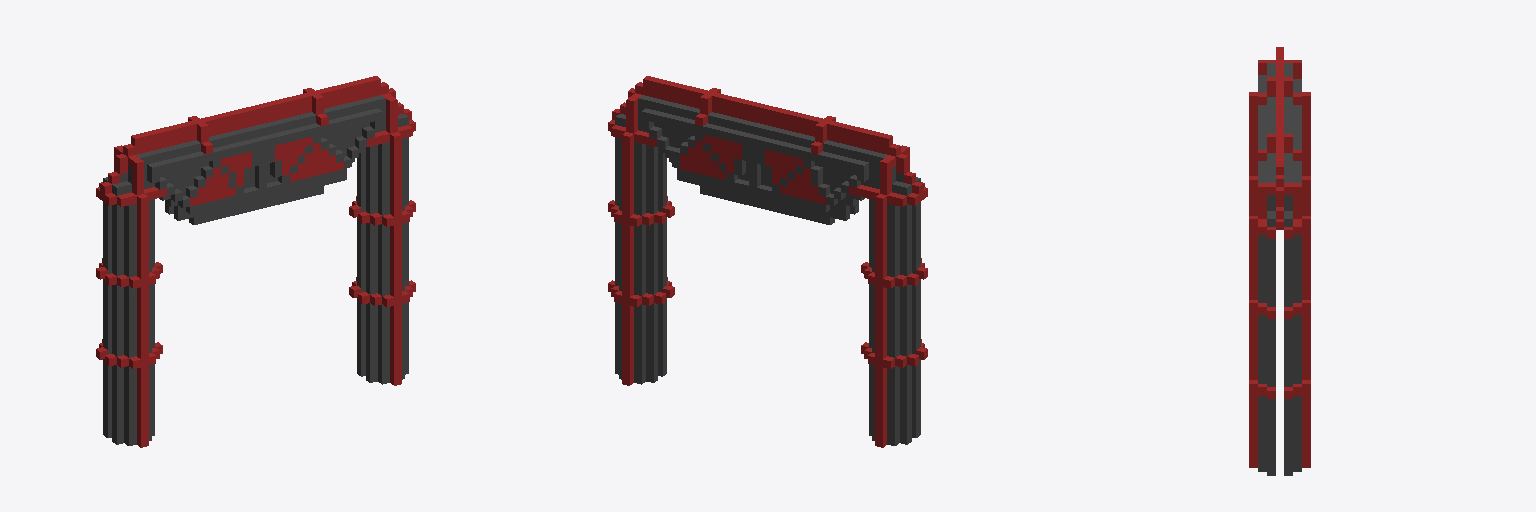
3 views of the same model, side by side, from view 1: azimuth 30°, elevation 25°; view 2: azimuth 150°, elevation 25°; view 3: azimuth 270°, elevation 25° (orthographic).
Parts seen in each view (by area): view 1: object 1; view 2: object 1; view 3: object 1.
Boxes of the visible parts, x1=… form: object 1: x1=96, y1=76, x2=415, y2=447; object 1: x1=608, y1=76, x2=927, y2=447; object 1: x1=1249, y1=47, x2=1310, y2=475.
Bounding box in the file's own units: 4 × 3.7 × 0.7.
Materials: 1 (1 with a texture image).